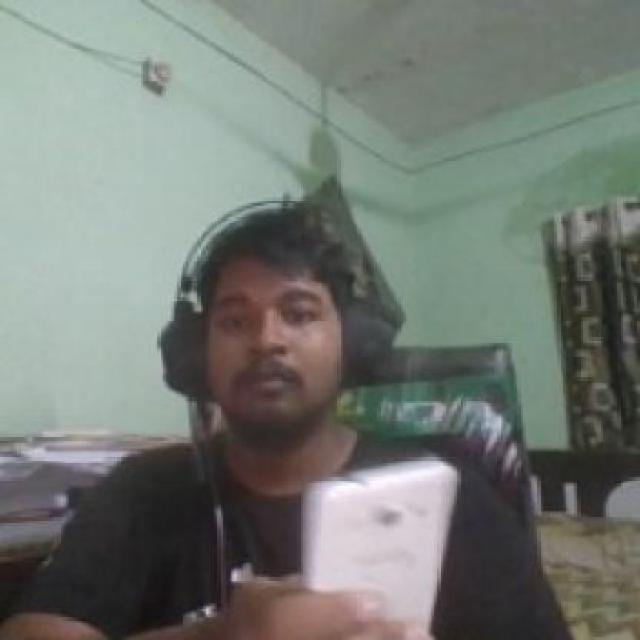Phone: (301, 458, 458, 638)
